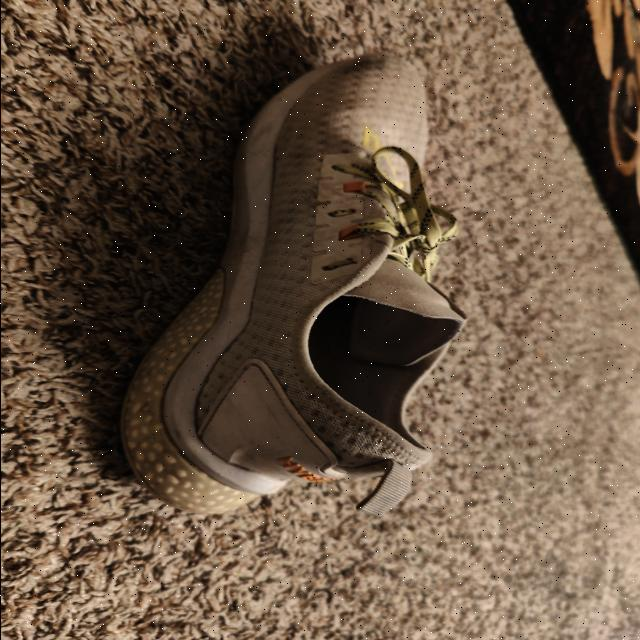white shoes: (125, 78, 427, 502)
